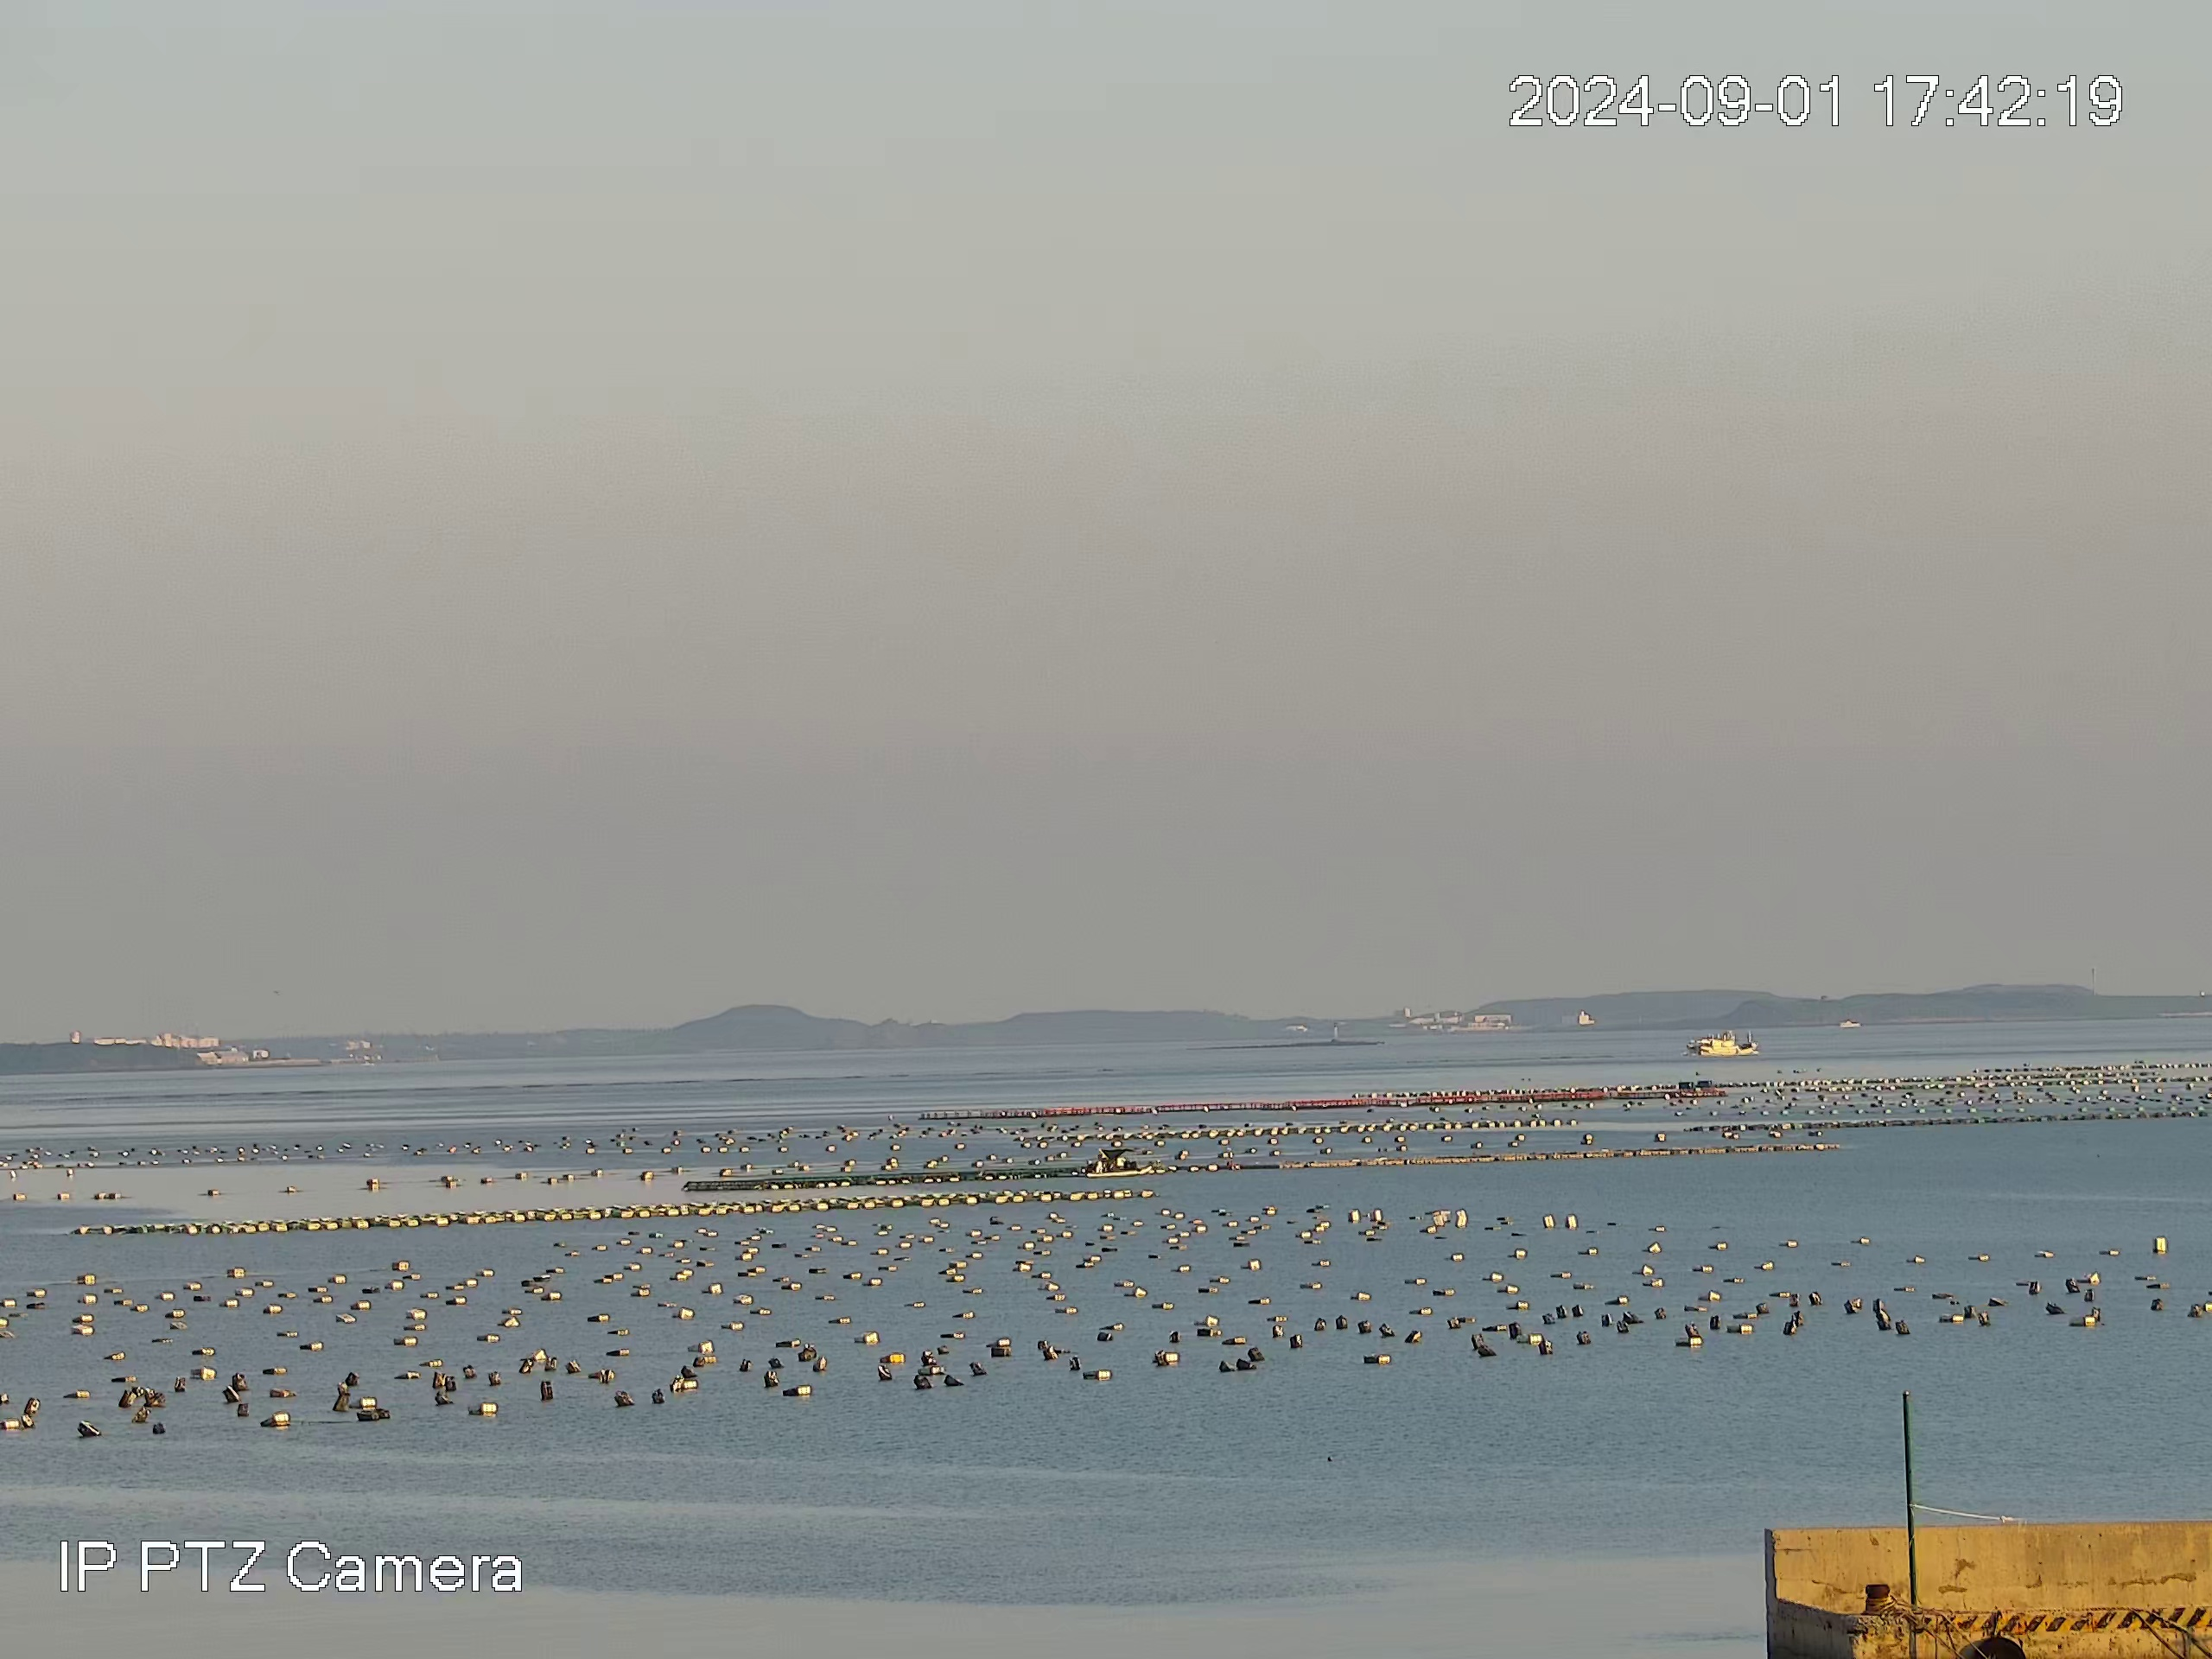boat: (1090, 1147, 1155, 1178), (1688, 1032, 1759, 1056)
